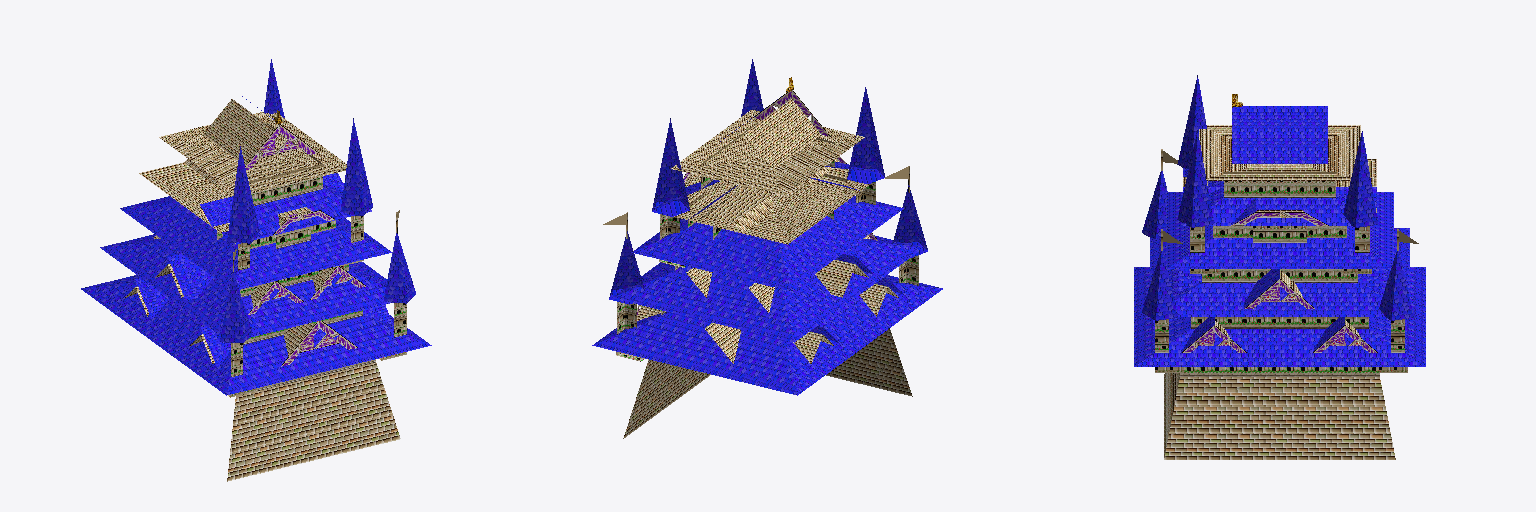
3 views of the same model, side by side, from view 1: azimuth 30°, elevation 25°; view 2: azimuth 150°, elevation 25°; view 3: azimuth 270°, elevation 25° (orthographic).
Parts seen in each view (by area): view 1: Shape_IndexedFaceSet.005; view 2: Shape_IndexedFaceSet.005; view 3: Shape_IndexedFaceSet.005.
Boxes of the visible parts, x1=… form: Shape_IndexedFaceSet.005: x1=81, y1=59, x2=431, y2=481; Shape_IndexedFaceSet.005: x1=592, y1=59, x2=942, y2=438; Shape_IndexedFaceSet.005: x1=1134, y1=75, x2=1425, y2=459.
Size of the model in its own units: 4.31 by 6.5 by 5.31.
6 materials, 5 textured.